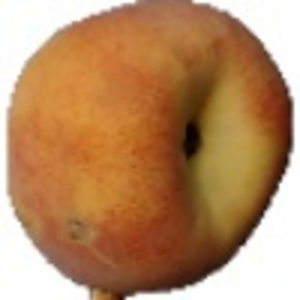pêssego: (3, 1, 295, 300)
